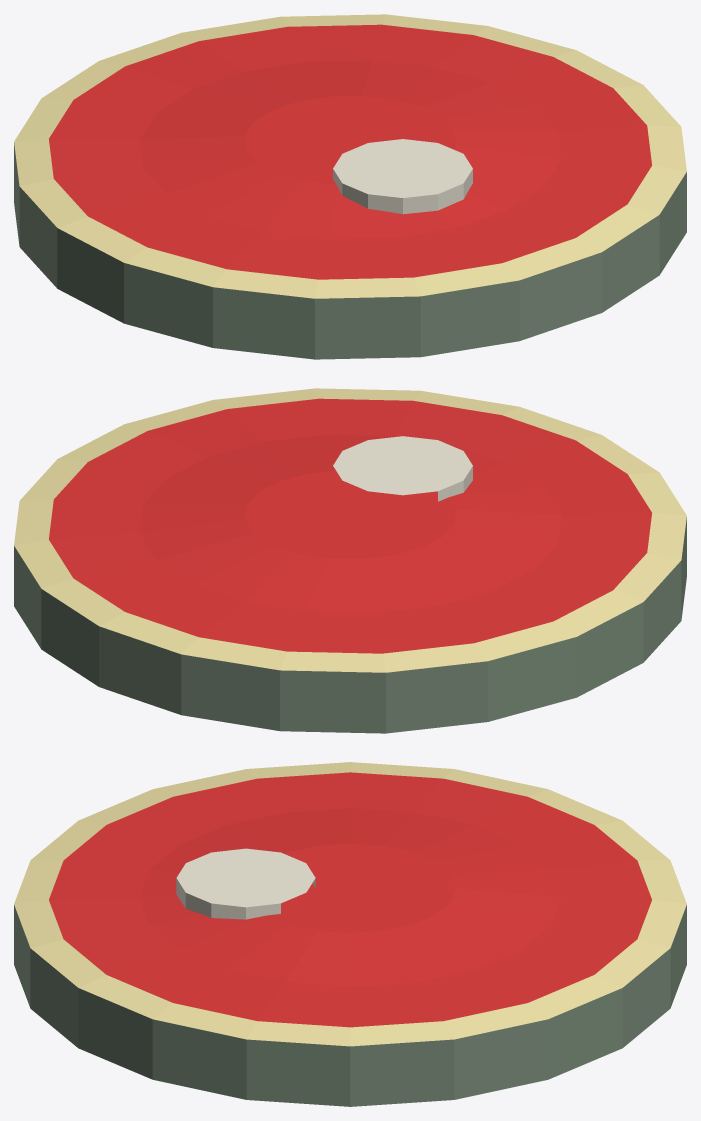
Rendered from cap_neck.glb.
3 renders of one model, top to bottom at view 1: azimuth 30°, elevation 25°; view 2: azimuth 150°, elevation 25°; view 3: azimuth 270°, elevation 25°, orthographic.
Visible parts, largest first — view 1: OUT; view 2: OUT; view 3: OUT.
Boxes of the visible parts, bbox=[...] form: OUT: bbox=[14, 14, 686, 359]; OUT: bbox=[14, 388, 686, 733]; OUT: bbox=[14, 762, 686, 1106].
Bounding box in the file's own units: 0.116 × 0.0165 × 0.116.
